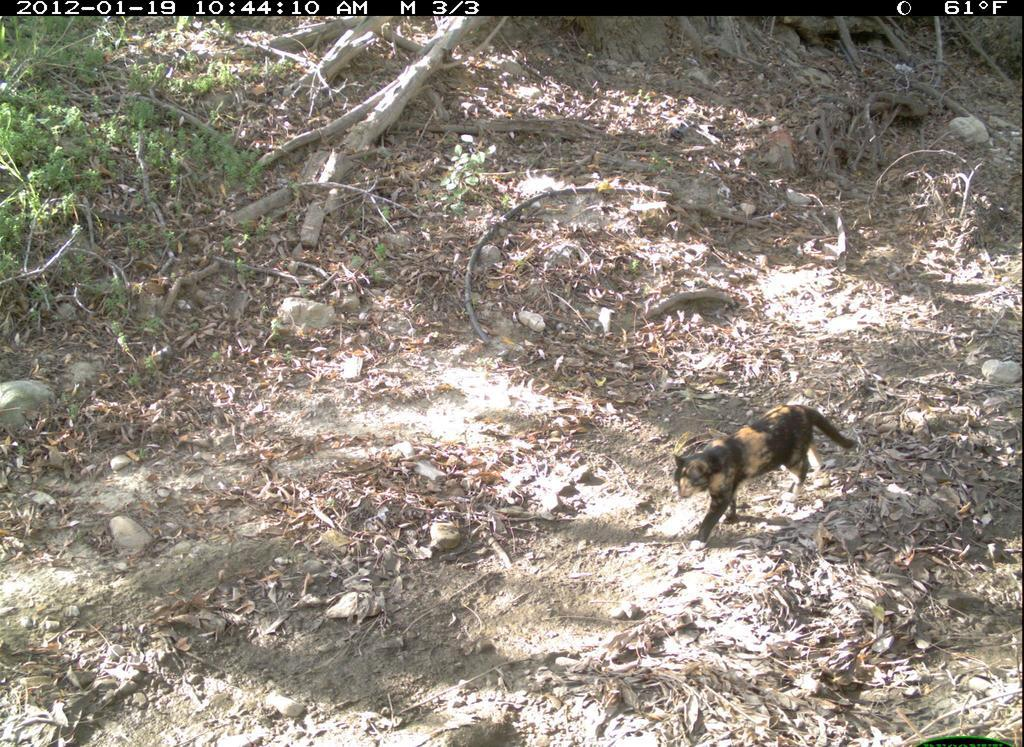cat: (667, 400, 865, 557)
